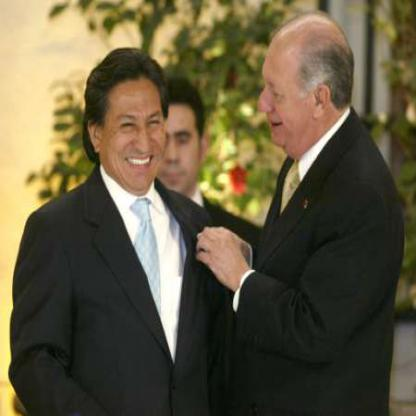face: (100, 57, 169, 195), (258, 27, 319, 152), (146, 88, 204, 199)
